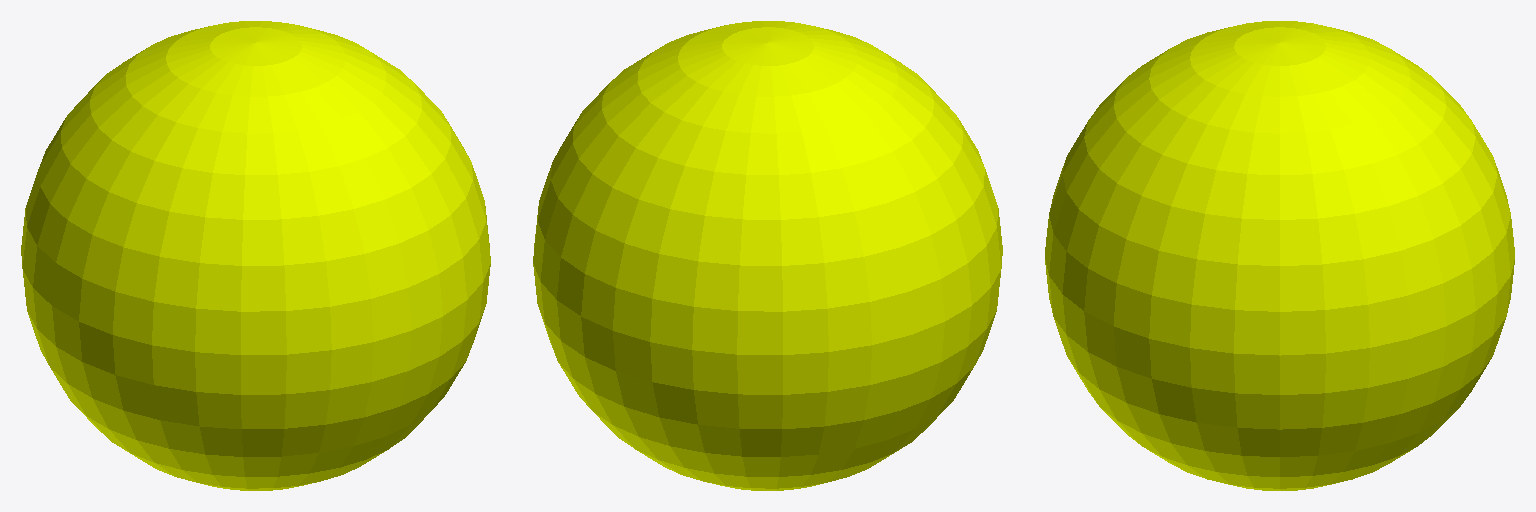
File: sun.obj
3 renders of one model, left to right at view 1: azimuth 30°, elevation 25°; view 2: azimuth 150°, elevation 25°; view 3: azimuth 270°, elevation 25°, orthographic.
Visible parts, largest first — view 1: Sphere; view 2: Sphere; view 3: Sphere.
Part boxes in pixels (x1,y1,x2,y2): Sphere: (21, 21, 490, 490); Sphere: (533, 21, 1002, 490); Sphere: (1045, 21, 1514, 490).
Size of the model in its own units: 50 by 50 by 50.